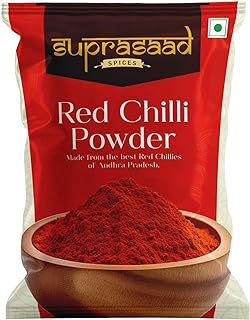Chilli Powder: (1, 2, 249, 319)
